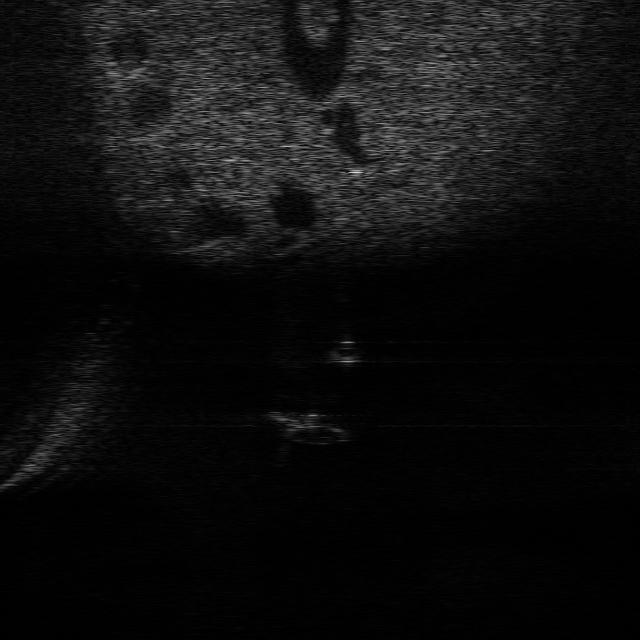ball: (320, 336, 368, 367)
square cage: (282, 423, 356, 449)
tyre: (288, 424, 348, 449)
